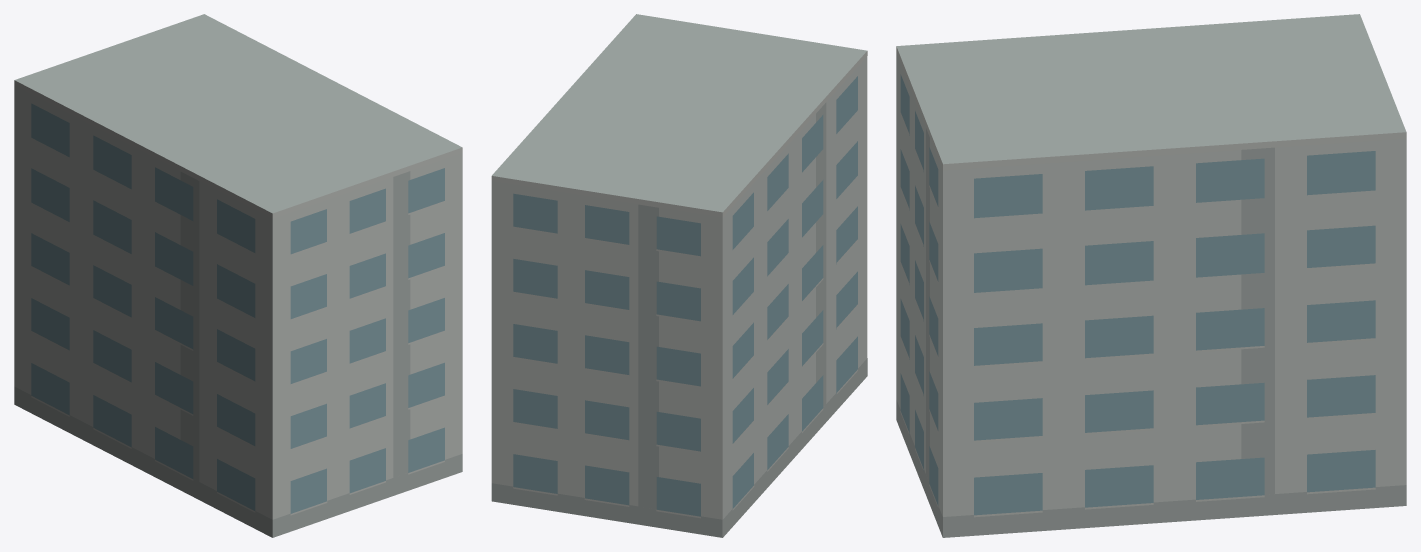
The model's file is survey-upis-32576435.glb.
3 views of the same model, side by side, from view 1: azimuth 30°, elevation 25°; view 2: azimuth 150°, elevation 25°; view 3: azimuth 270°, elevation 25° (orthographic). The views are drawn at different scales.
Parts seen in each view (by area): view 1: survey-upis-32576435.tmp; view 2: survey-upis-32576435.tmp; view 3: survey-upis-32576435.tmp.
Boxes of the visible parts, x1,y1,x2,y2 form: survey-upis-32576435.tmp: (14,14,462,537); survey-upis-32576435.tmp: (491,14,867,537); survey-upis-32576435.tmp: (896,14,1406,537).
Bounding box in the file's own units: 12.51 × 14.5 × 17.95.
